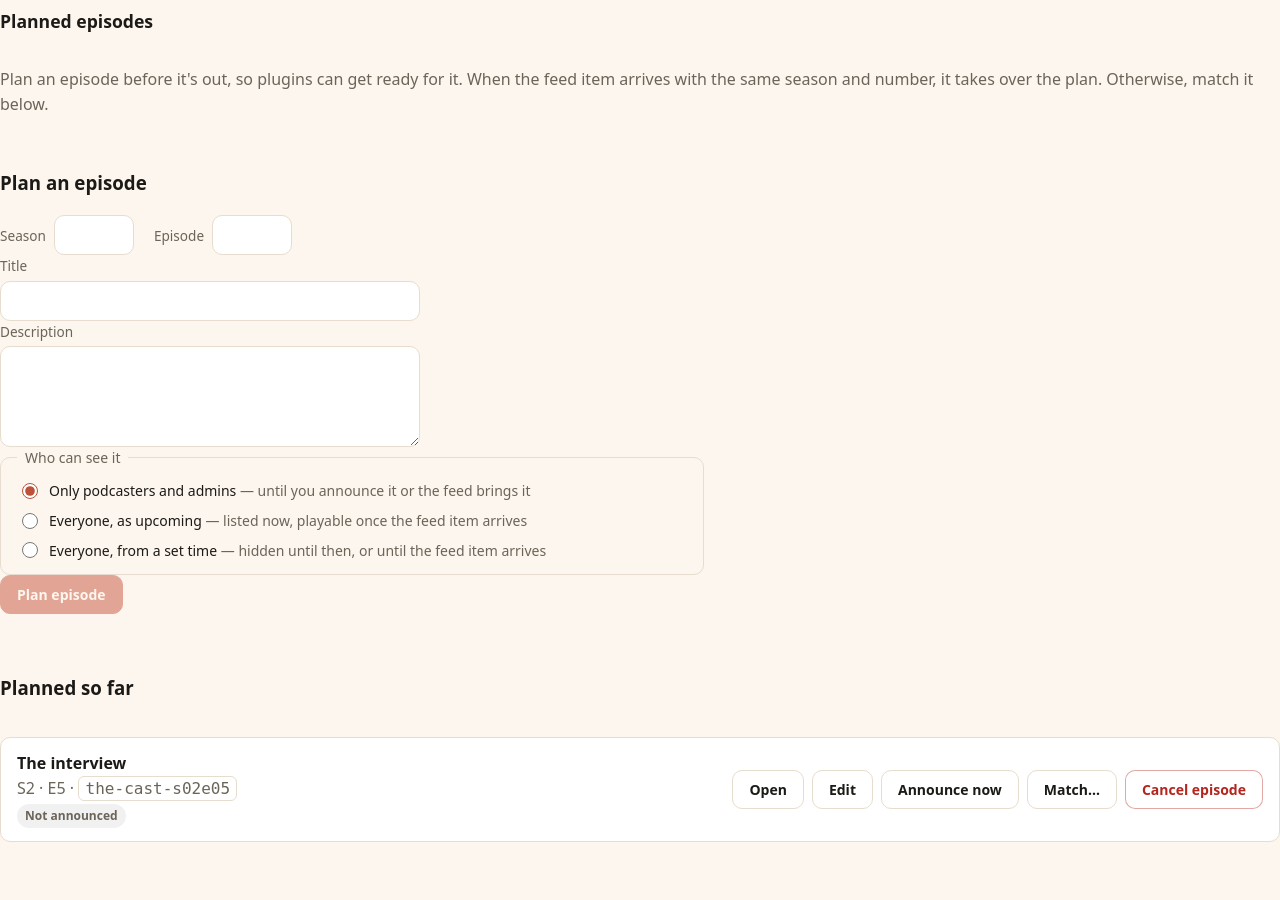
AdminPlanned (core#252) › offers only matchable episodes and explains a refused match in the admin's language
Click the button "Match…" at (1072, 790), box [1027,770,1117,809]
(page scrolled)
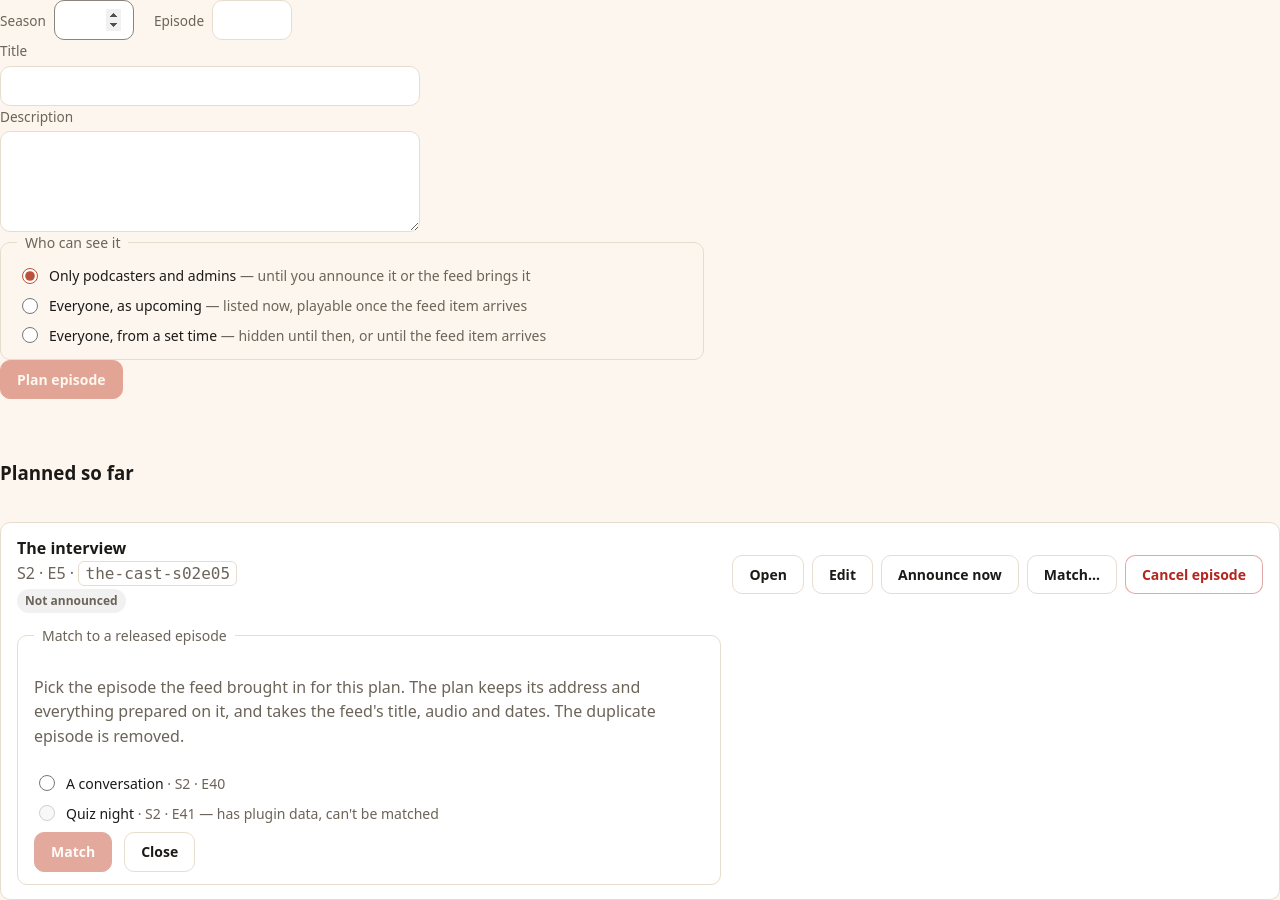
Check: the radio button labelled "Quiz night · S2 · E41 — has plugin data, can't be matched" is disabled, box [39,805,55,821]
Click the radio button labelled "A conversation · S2 · E40" at (47, 783), box [39,775,55,791]
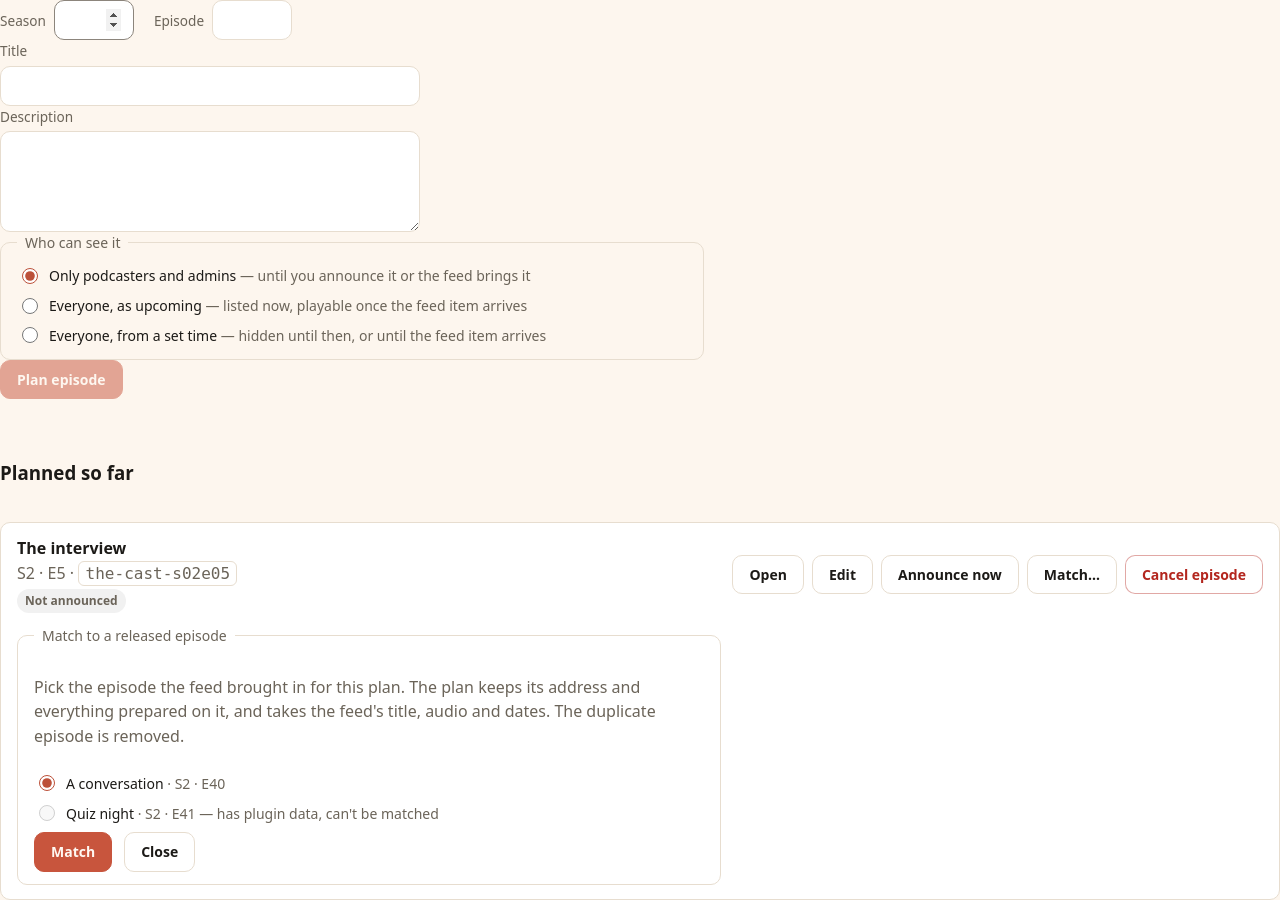
Click the button "Match" at (73, 852), box [34,832,112,872]
(page scrolled)
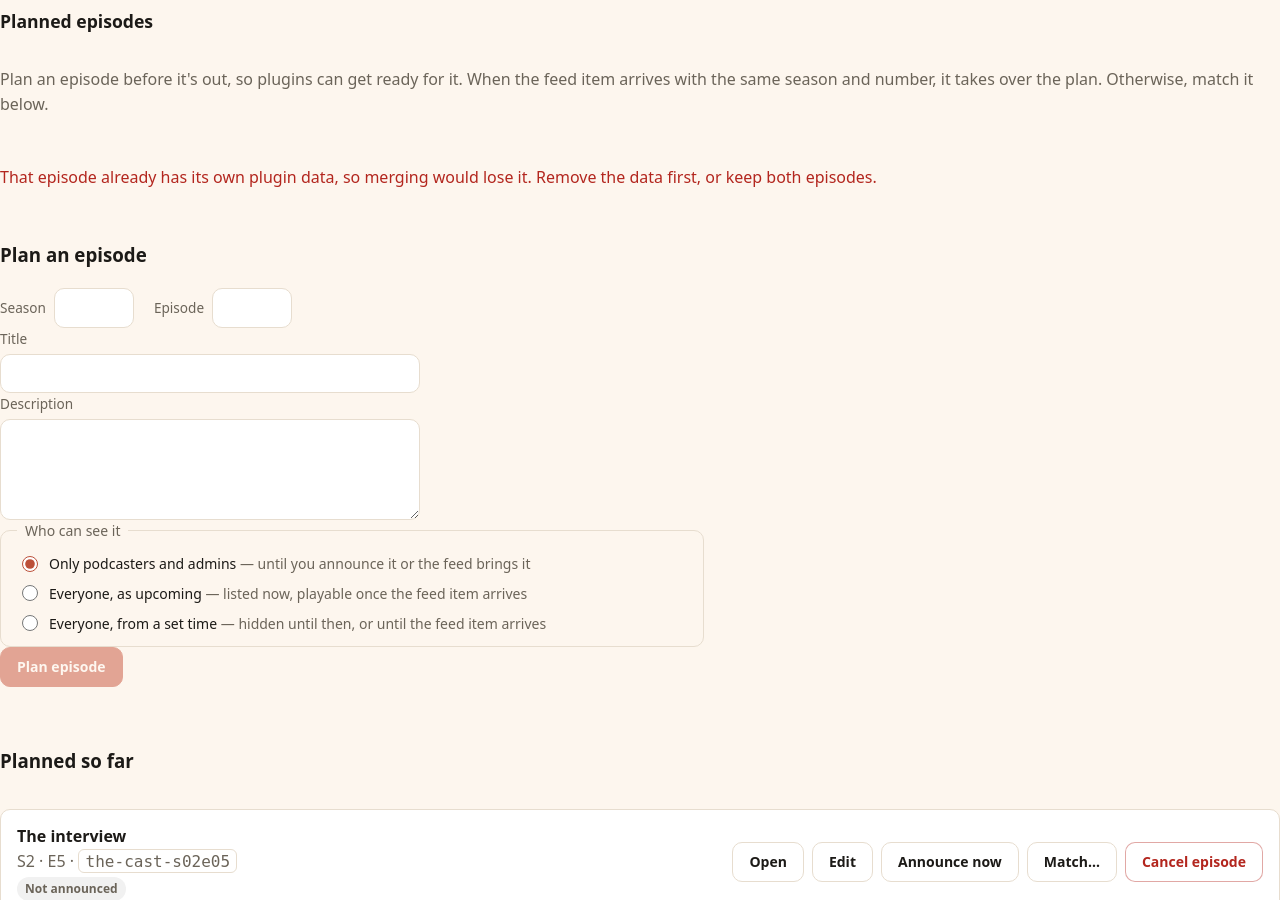
Check: the text "already has its own plugin data" is shown, box [0,166,877,188]
